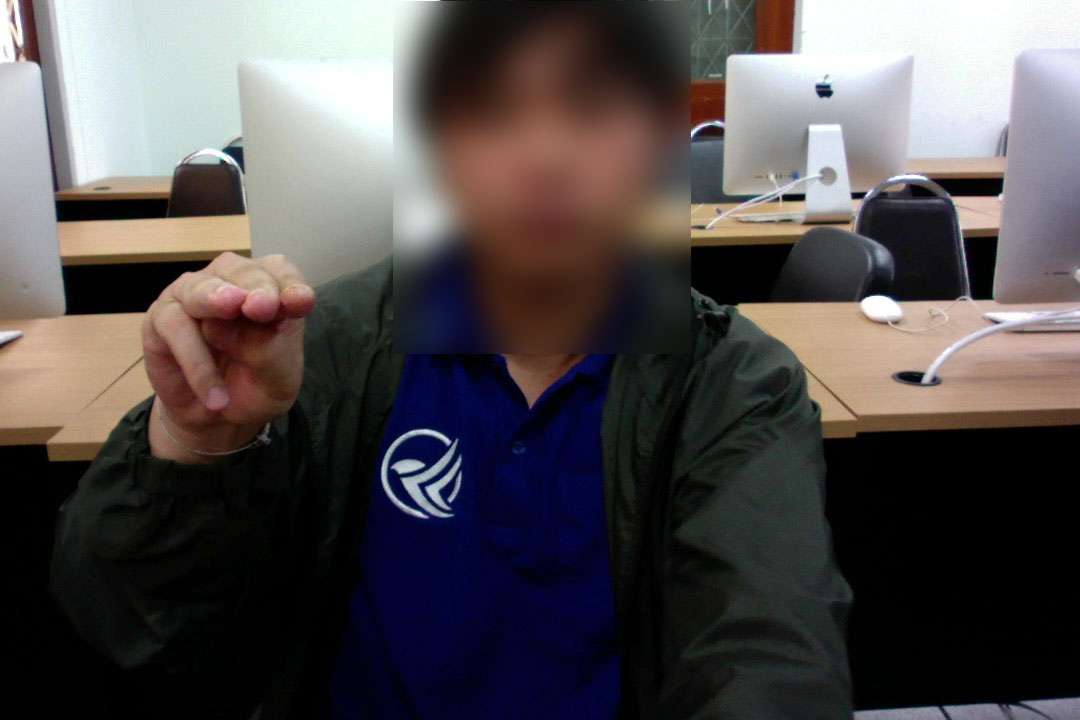mor: (140, 237, 319, 437)
